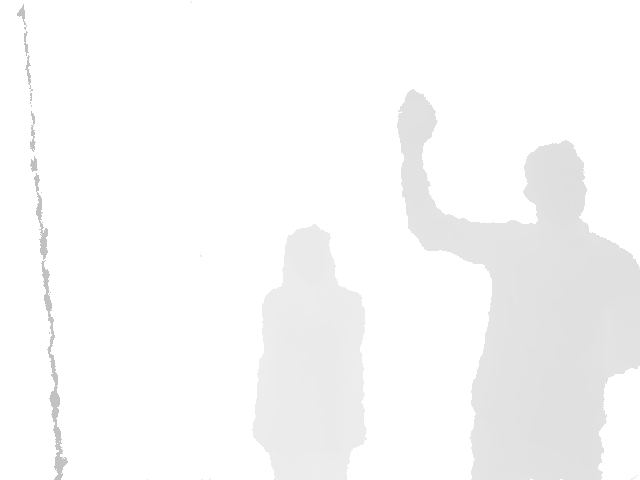hand: (396, 88, 438, 153)
head: (521, 139, 588, 219), (281, 223, 339, 287)
person: (396, 88, 640, 480), (250, 222, 370, 479)
